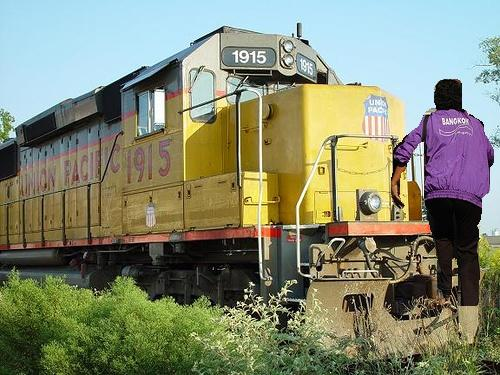tampered: (392, 80, 494, 306)
